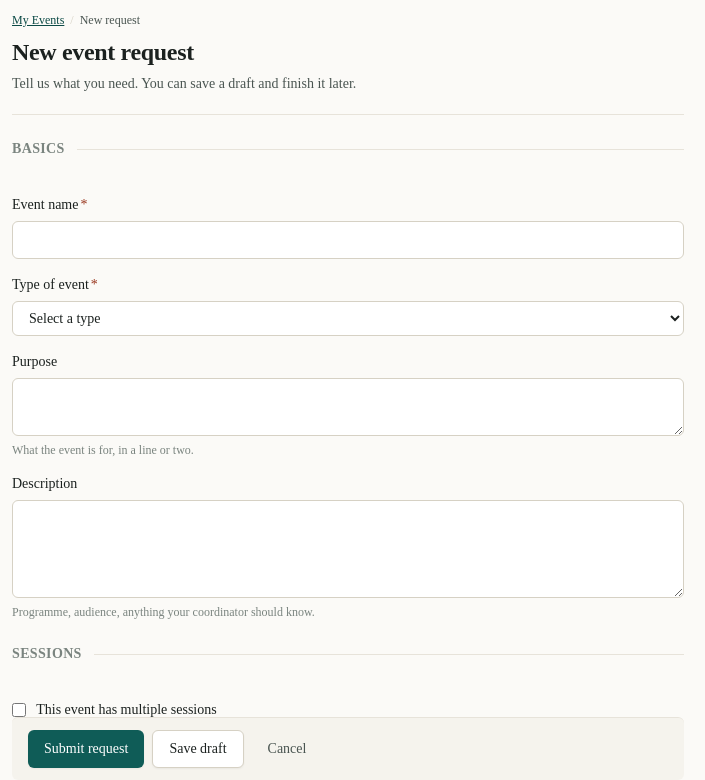
Test: New event request: the form › saving a draft › [SPM-24][AC1] refuses a name of , focuses the field, and sends nothing
The image size is (705, 780).
Step 1. Click the button "Save draft" → [198, 749], box [152, 730, 244, 768]
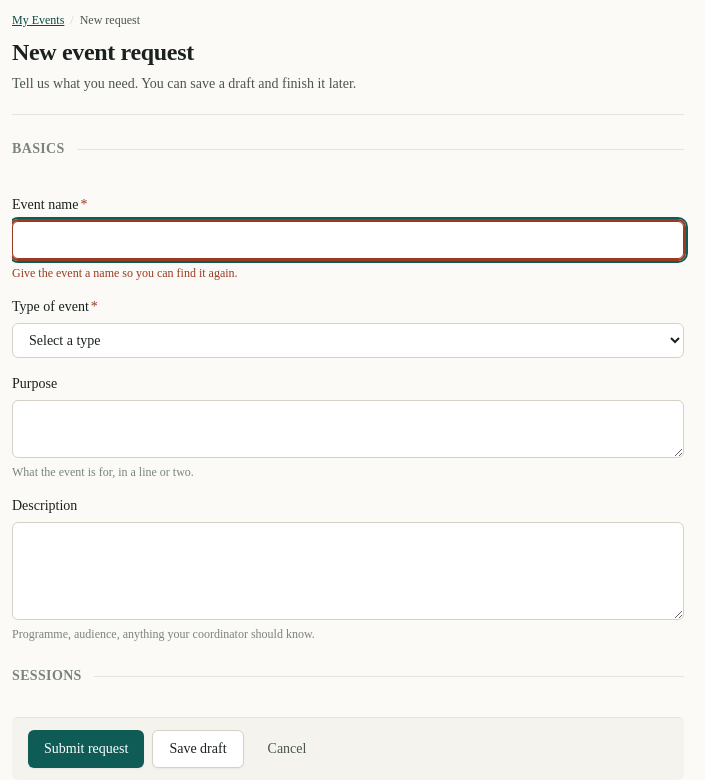
expect the text "Give the event a name so you can find it again." is shown: met, box [12, 266, 238, 280]
